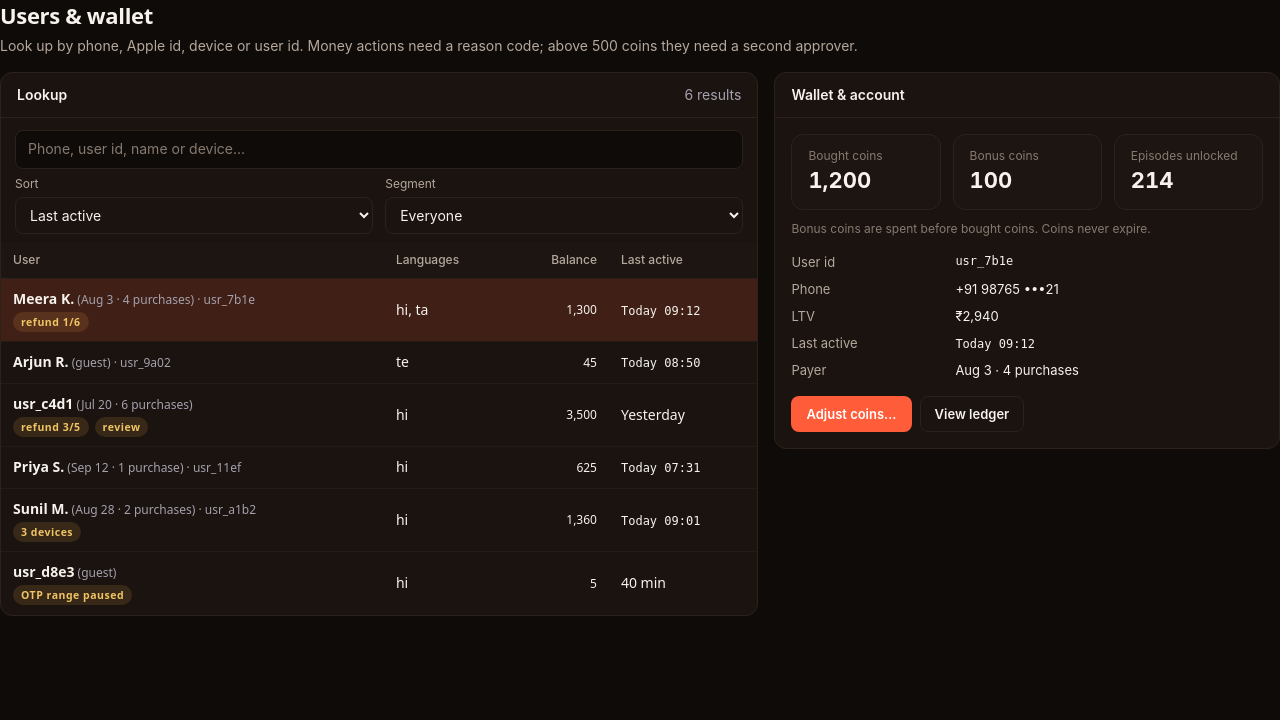
Test: Users view — coin adjustment dialog (dual control) › requires a note when the reason is 'other'
Expected: the text "Meera K." is shown, [13,289,74,308]
Click the button "Adjust coins…" at (852, 414), box [791,396,912,432]
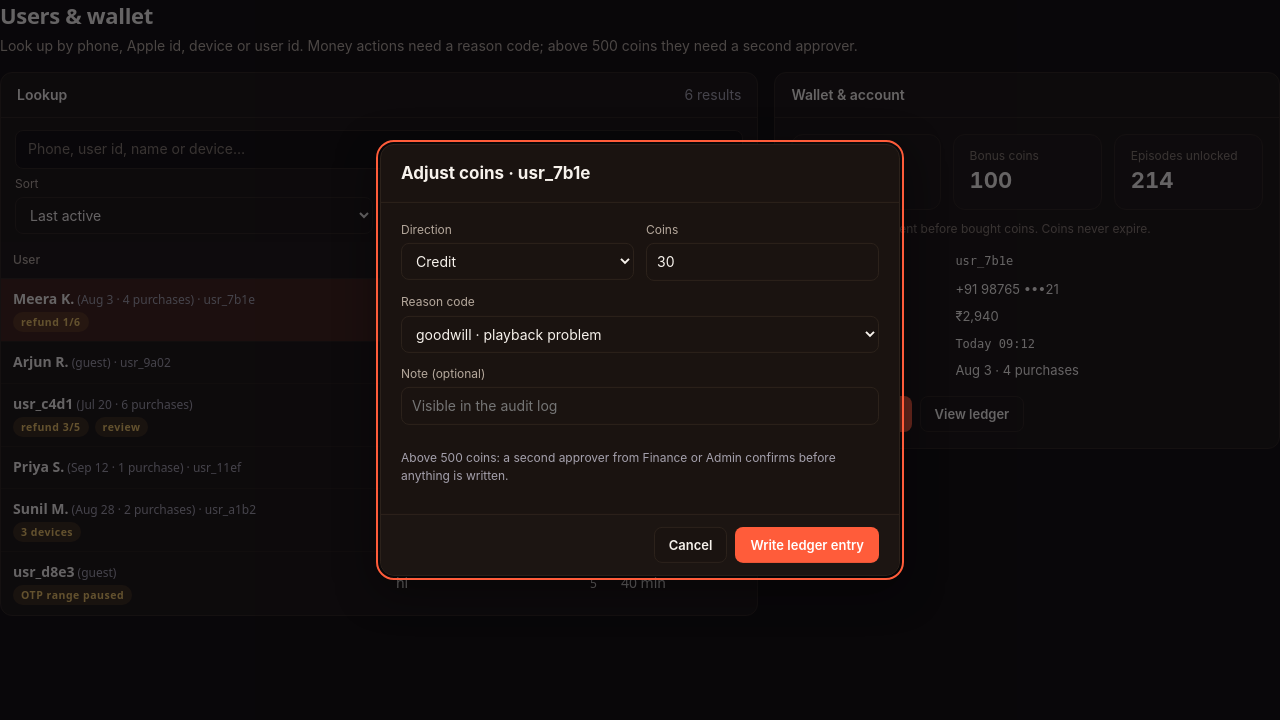
Select "other (note required)" in the dropdown labelled "Reason code" at (640, 334), box [401,316,879,353]
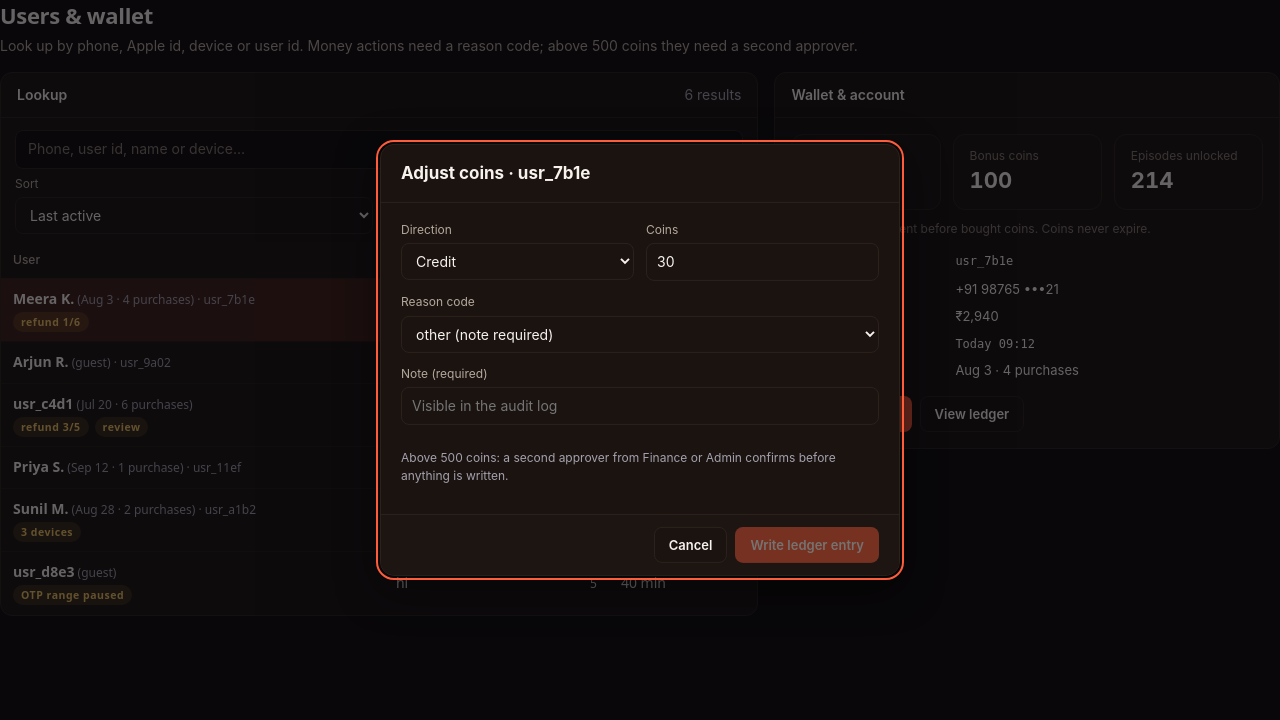
Expected: the button "Write ledger entry" is disabled, [735,527,879,563]
Type "ticket 42" into the field labelled "Note (required)" at (640, 406), box [401,387,879,425]
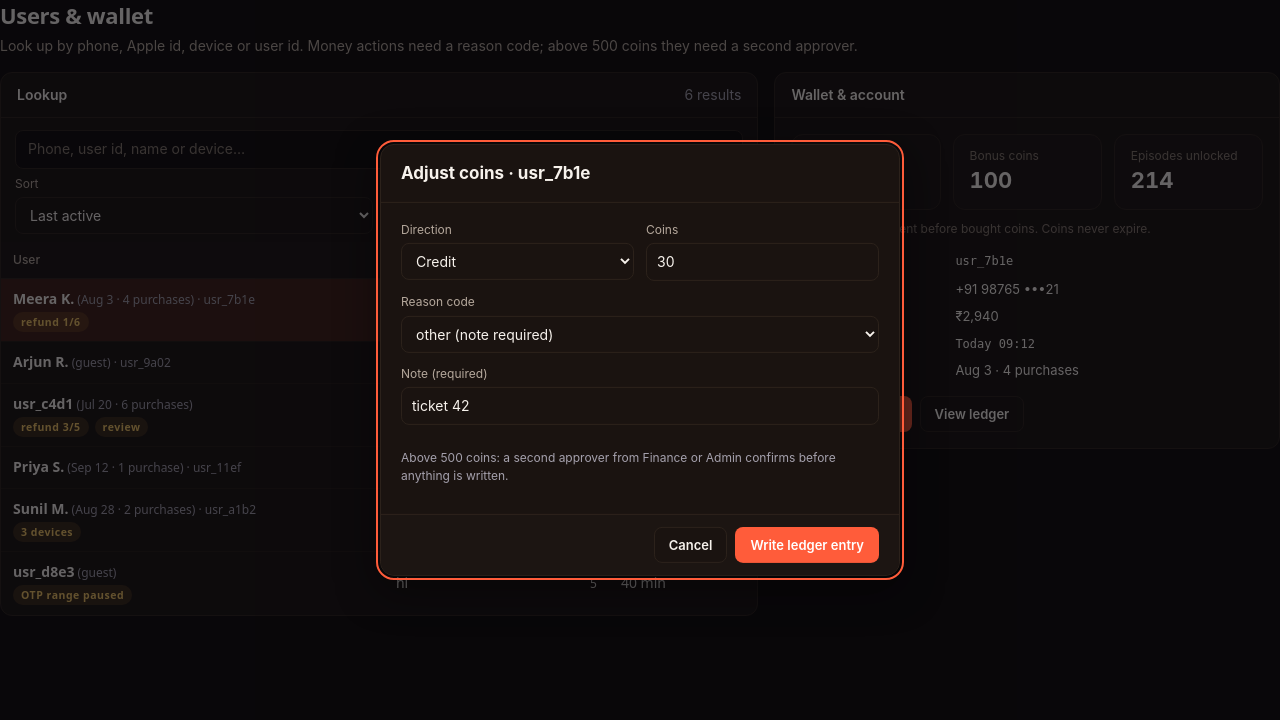
Expected: the button "Write ledger entry" is enabled, [735,527,879,563]
